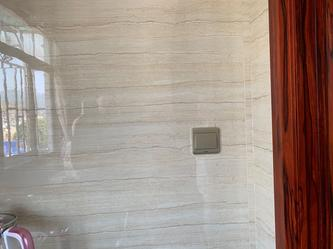switch: (193, 130, 220, 151)
